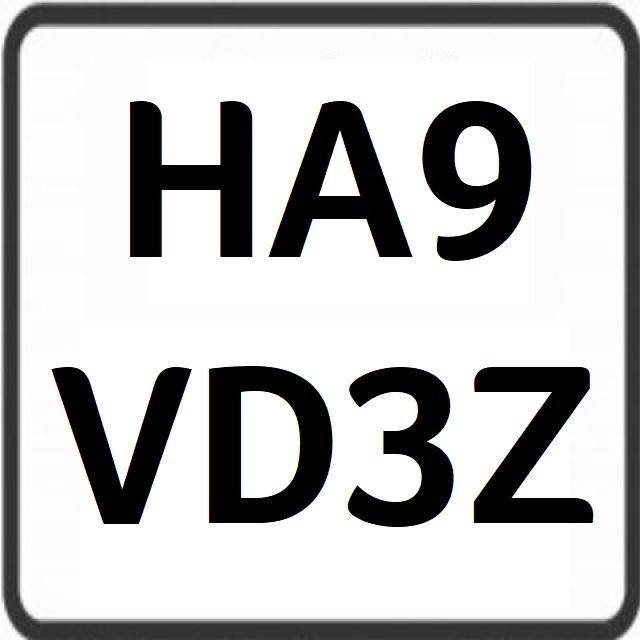3: (342, 351, 459, 540)
9: (416, 84, 543, 276)
A: (264, 74, 415, 289)
D: (204, 362, 340, 548)
H: (104, 65, 262, 279)
V: (48, 348, 192, 548)
Z: (472, 341, 604, 540)
